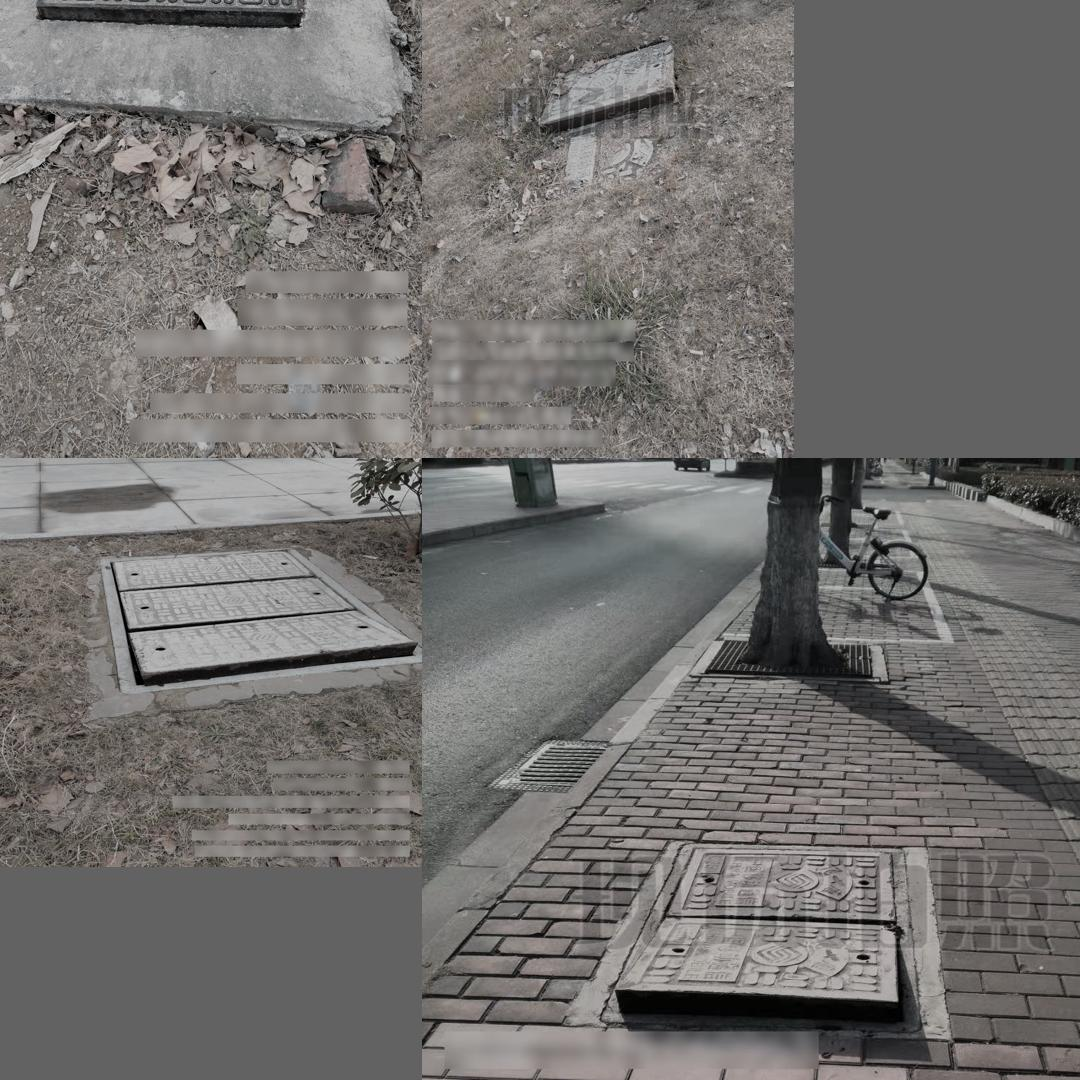uncovered: (601, 845, 926, 1039), (100, 548, 420, 694), (529, 32, 702, 133), (33, 0, 307, 31)
